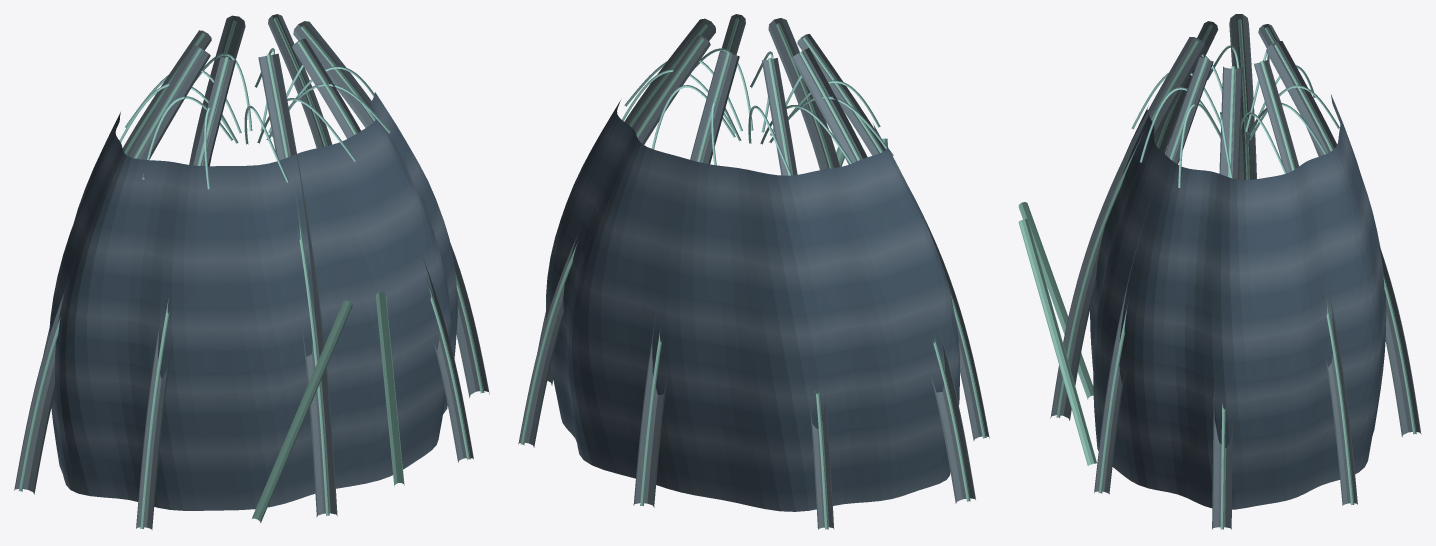
Rendered from hexcore_destination_09.glb.
3 views of the same model, side by side, from view 1: azimuth 30°, elevation 25°; view 2: azimuth 150°, elevation 25°; view 3: azimuth 270°, elevation 25° (orthographic). The views are drawn at different scales.
Parts seen in each view (by area): view 1: world; view 2: world; view 3: world.
Boxes of the visible parts, x1,y1,x2,y2 form: world: [14, 14, 489, 529]; world: [518, 14, 989, 529]; world: [1018, 14, 1421, 529].
Size of the model in its own units: 33.16 by 28.8 by 26.69.
